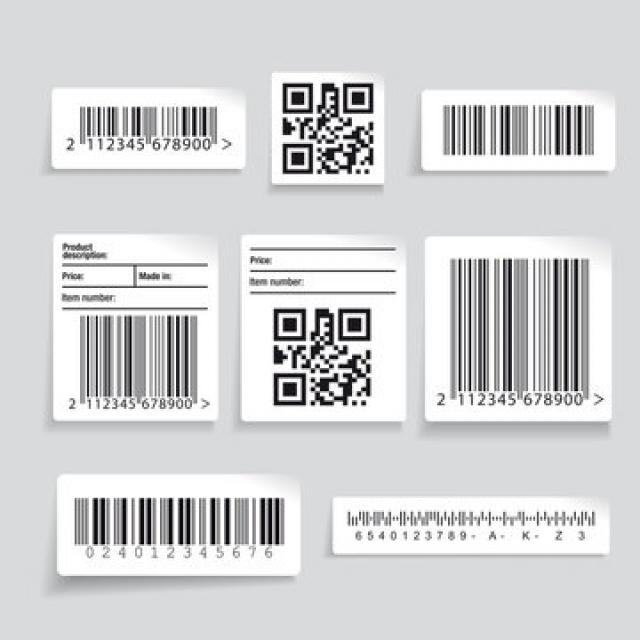Barkod: (433, 252, 614, 410), (66, 488, 288, 572), (56, 98, 238, 168), (434, 98, 598, 167)
